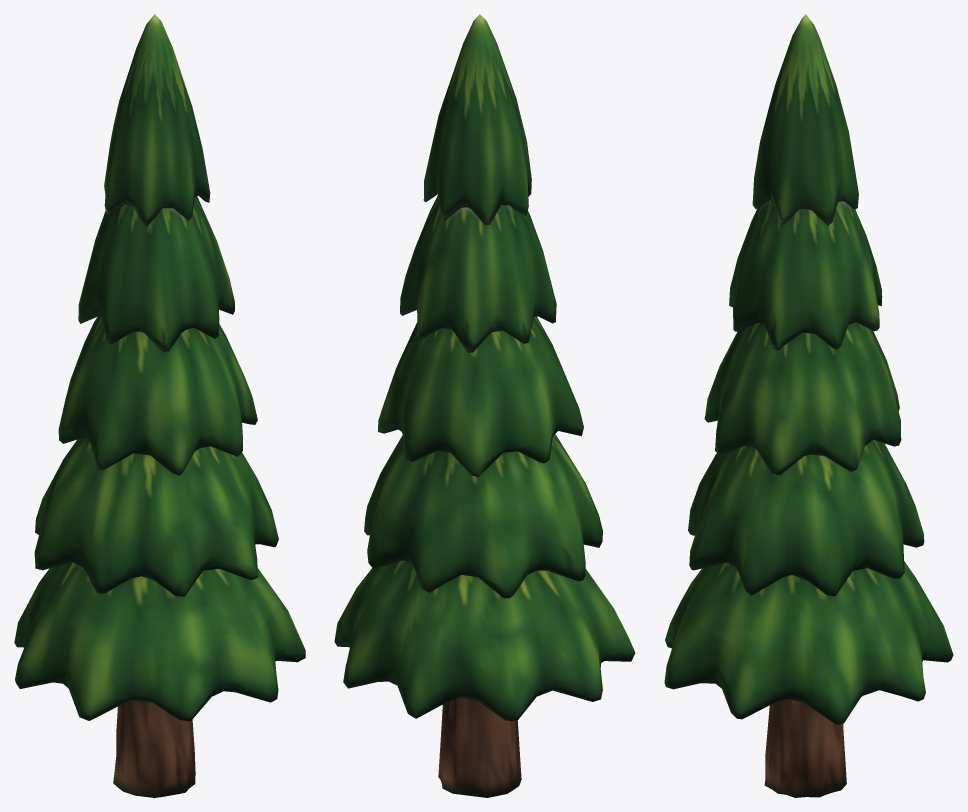
Rendered from pine_d.glb.
3 renders of one model, left to right at view 1: azimuth 30°, elevation 25°; view 2: azimuth 150°, elevation 25°; view 3: azimuth 270°, elevation 25°, orthographic.
Parts seen in each view (by area): view 1: pine_d; view 2: pine_d; view 3: pine_d.
Part boxes in pixels (x1,y1,x2,y2): pine_d: (14,14,305,797); pine_d: (334,14,635,797); pine_d: (664,14,953,797).
Size of the model in its own units: 1.72 by 4.86 by 1.66.
1 material, 1 textured.
